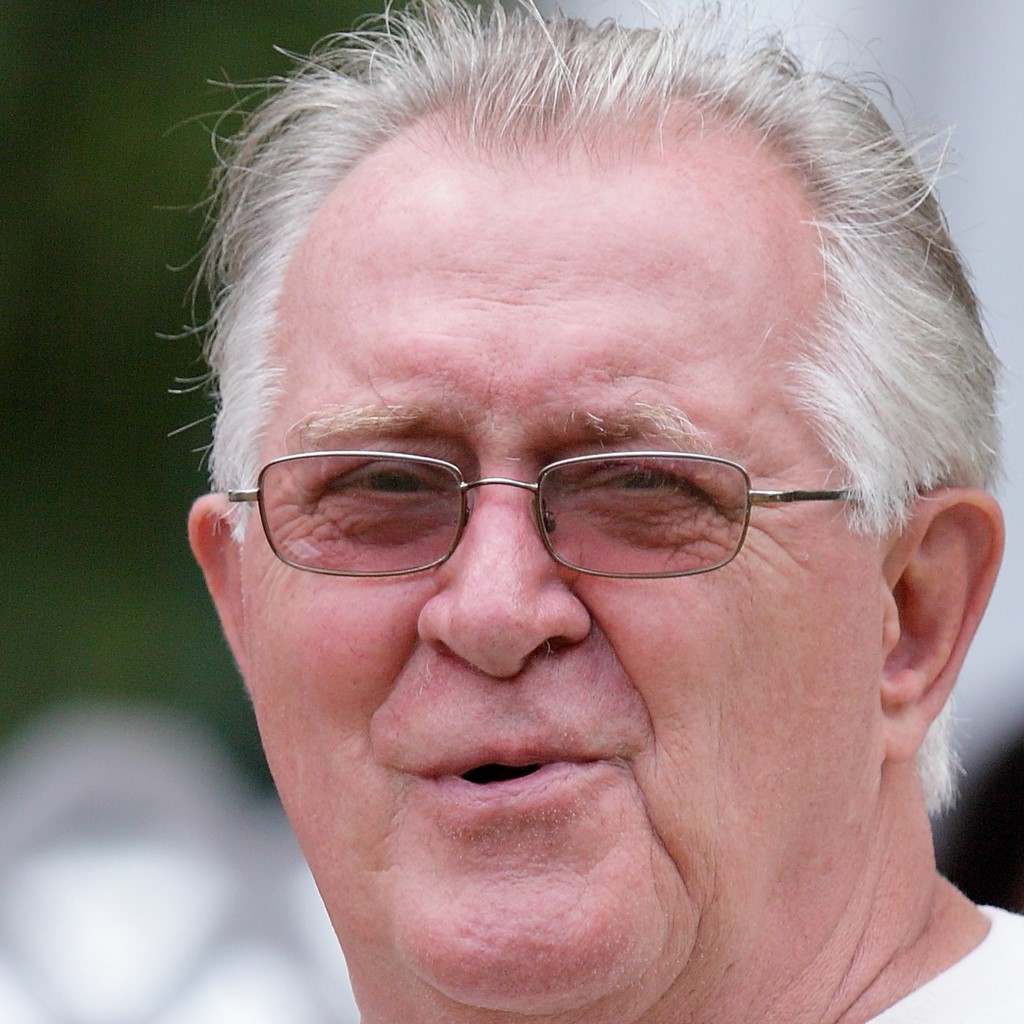sin_mascara: (202, 116, 946, 984)
